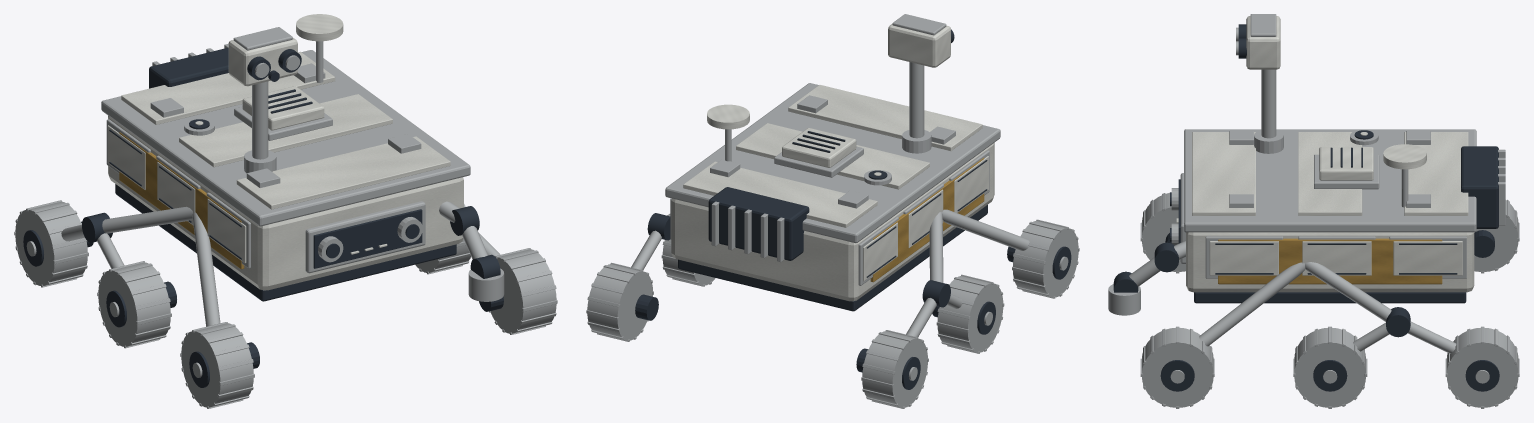
File: rover_base.glb
3 renders of one model, left to right at view 1: azimuth 30°, elevation 25°; view 2: azimuth 150°, elevation 25°; view 3: azimuth 270°, elevation 25°, orthographic. The views are drawn at different scales.
Parts seen in each view (by area): view 1: Rover_TopDeck, Rover_Chassis, Deck_InstrumentPlate, Deck_InstrumentPlate.001, Deck_InstrumentPlate.002, Wheel_Rim, Wheel_Rim.001, Wheel_Rim.002, Wheel_Rim.003, Rover_LowerFrame, Front_Recess, Thermal_SidePanel (+29 smaller); view 2: Rover_TopDeck, Rover_Chassis, Deck_InstrumentPlate, Deck_InstrumentPlate.002, Power_Unit, Deck_InstrumentPlate.001, Wheel_Rim.005, Wheel_Rim.002, Wheel_Rim, Wheel_Rim.001, Rover_LowerFrame, Mast_Head (+23 smaller); view 3: Rover_TopDeck, Rover_Chassis, Deck_InstrumentPlate, Deck_InstrumentPlate.002, Thermal_SidePanel.001, Wheel_Rim.003, Wheel_Rim.005, Wheel_Rim.004, Deck_InstrumentPlate.001, Rover_LowerFrame, Power_Unit, Side_ThermalCover.005 (+29 smaller).
Boxes of the visible parts, box(x1,y1,x2,y2) form: Rover_TopDeck: box(101, 50, 470, 226); Rover_Chassis: box(108, 115, 463, 290); Deck_InstrumentPlate: box(236, 136, 450, 209); Deck_InstrumentPlate.001: box(179, 94, 392, 167); Deck_InstrumentPlate.002: box(121, 51, 335, 124); Wheel_Rim: box(181, 323, 253, 407); Wheel_Rim.001: box(98, 262, 170, 346); Wheel_Rim.002: box(15, 201, 87, 285); Wheel_Rim.003: box(490, 249, 556, 333); Rover_LowerFrame: box(115, 184, 456, 301); Front_Recess: box(313, 209, 422, 268); Thermal_SidePanel: box(119, 132, 244, 269); Rover_TopDeck: box(665, 83, 1000, 243); Rover_Chassis: box(671, 142, 994, 301); Deck_InstrumentPlate: box(788, 85, 982, 150); Deck_InstrumentPlate.002: box(683, 161, 877, 227); Power_Unit: box(708, 187, 809, 260); Deck_InstrumentPlate.001: box(736, 123, 929, 189); Wheel_Rim.005: box(587, 264, 652, 340); Wheel_Rim.002: box(862, 331, 927, 407); Wheel_Rim: box(1013, 221, 1078, 297); Wheel_Rim.001: box(937, 276, 1003, 352); Rover_LowerFrame: box(678, 205, 987, 311); Mast_Head: box(888, 23, 950, 67); Rover_TopDeck: box(1184, 129, 1476, 232); Rover_Chassis: box(1186, 232, 1474, 292); Deck_InstrumentPlate: box(1192, 132, 1255, 215); Deck_InstrumentPlate.002: box(1404, 132, 1468, 215); Thermal_SidePanel.001: box(1218, 238, 1442, 284); Wheel_Rim.003: box(1142, 327, 1213, 407); Wheel_Rim.005: box(1446, 327, 1518, 407); Wheel_Rim.004: box(1294, 327, 1365, 407); Deck_InstrumentPlate.001: box(1298, 132, 1362, 215); Rover_LowerFrame: box(1194, 292, 1466, 303); Power_Unit: box(1461, 146, 1498, 228); Side_ThermalCover.005: box(1393, 241, 1462, 275).
Bounding box in the file's own units: 2.69 × 2.29 × 3.02.
Materials: 4 (2 with a texture image).
